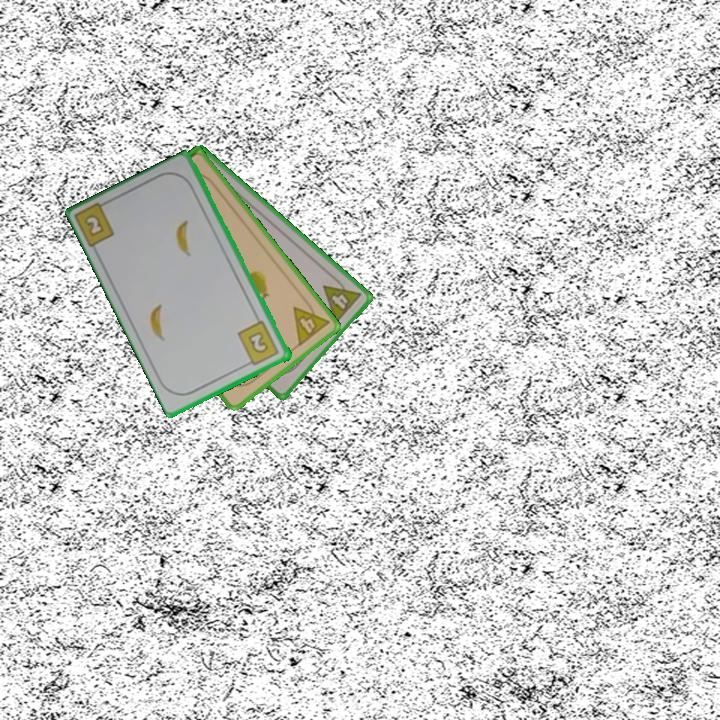2b: (234, 317, 282, 369), (81, 211, 107, 239)
4p: (319, 272, 364, 326), (290, 295, 332, 349)
